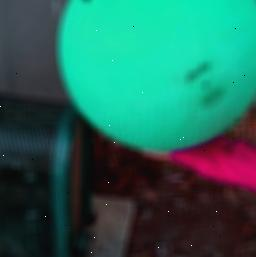algae: (52, 0, 256, 154)
